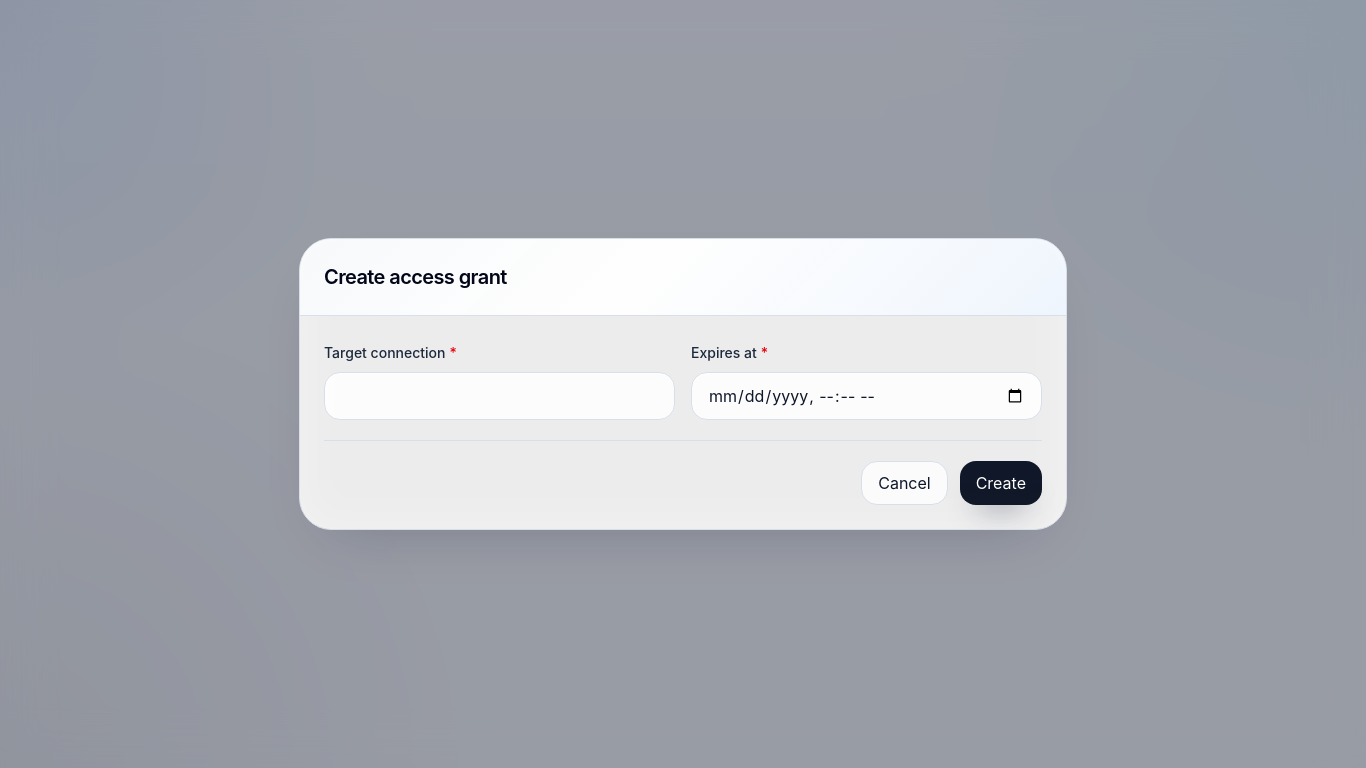
it: ResourceFormDialog › blocks custom validation failures for explicit expiry requirements
The image size is (1366, 768).
In the field labelled "Target connection": (500, 396) [324,372,675,420], type "tc_demo"
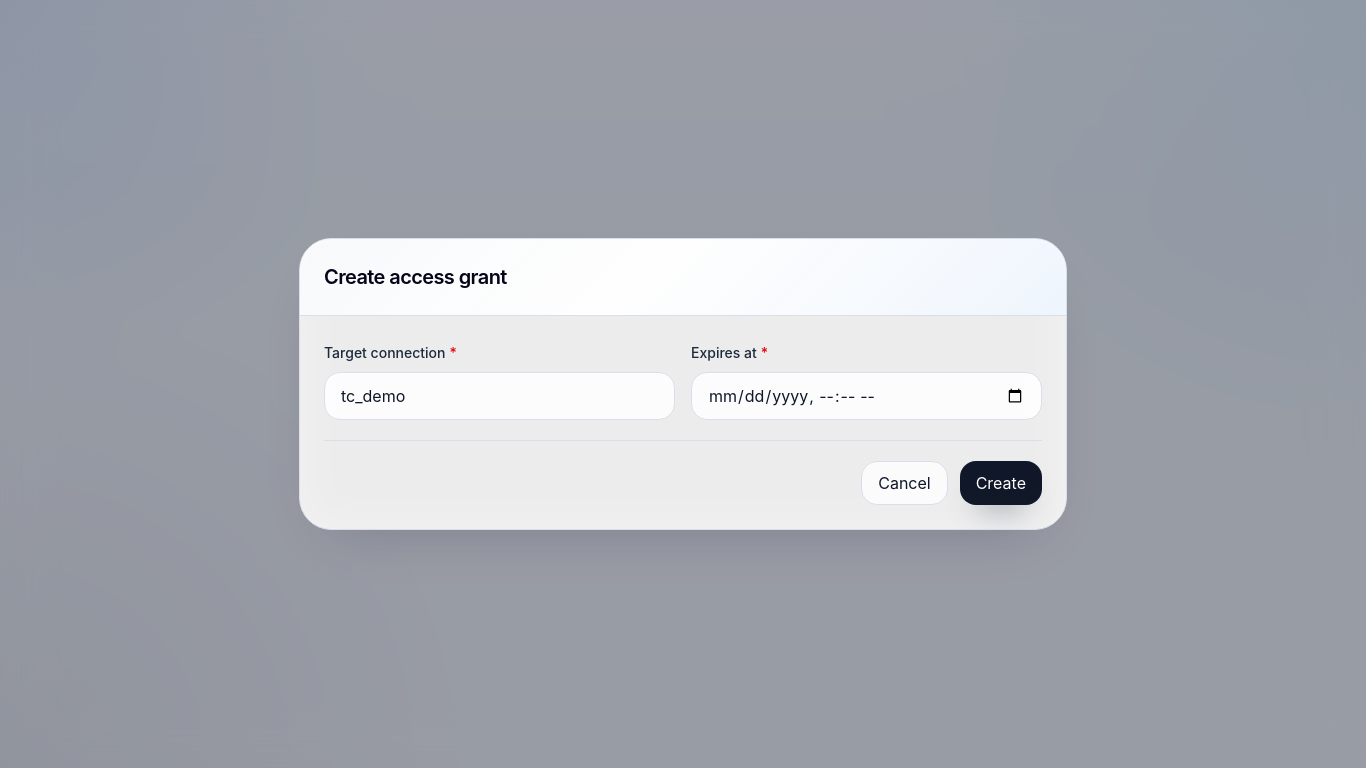
Click the button "Create": (1001, 483) [960,461,1042,505]
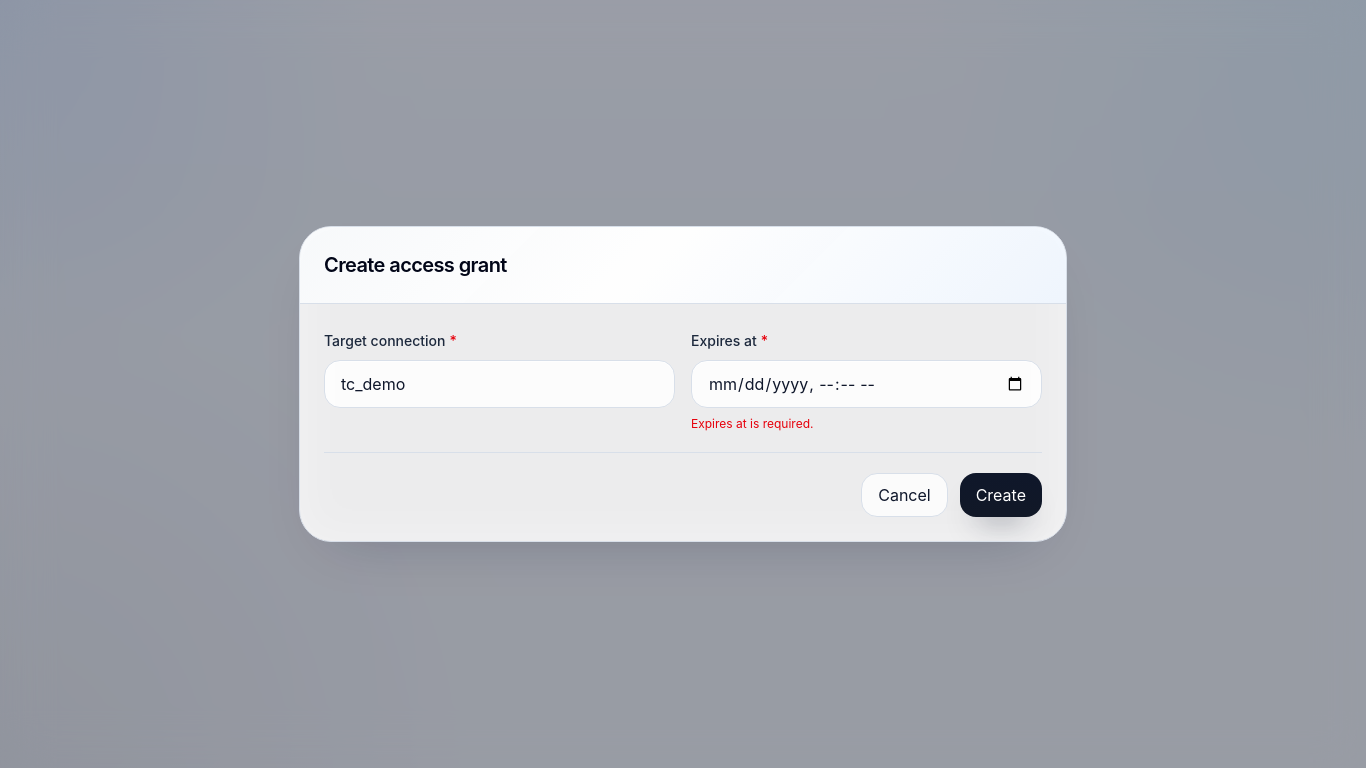
Expected: the text "Expires at is required." is shown, [691,416,814,431]
